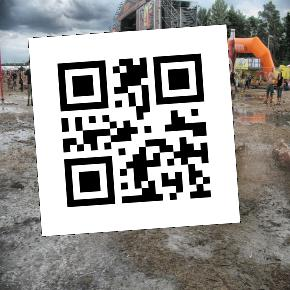qr_code: (28, 24, 240, 236)
